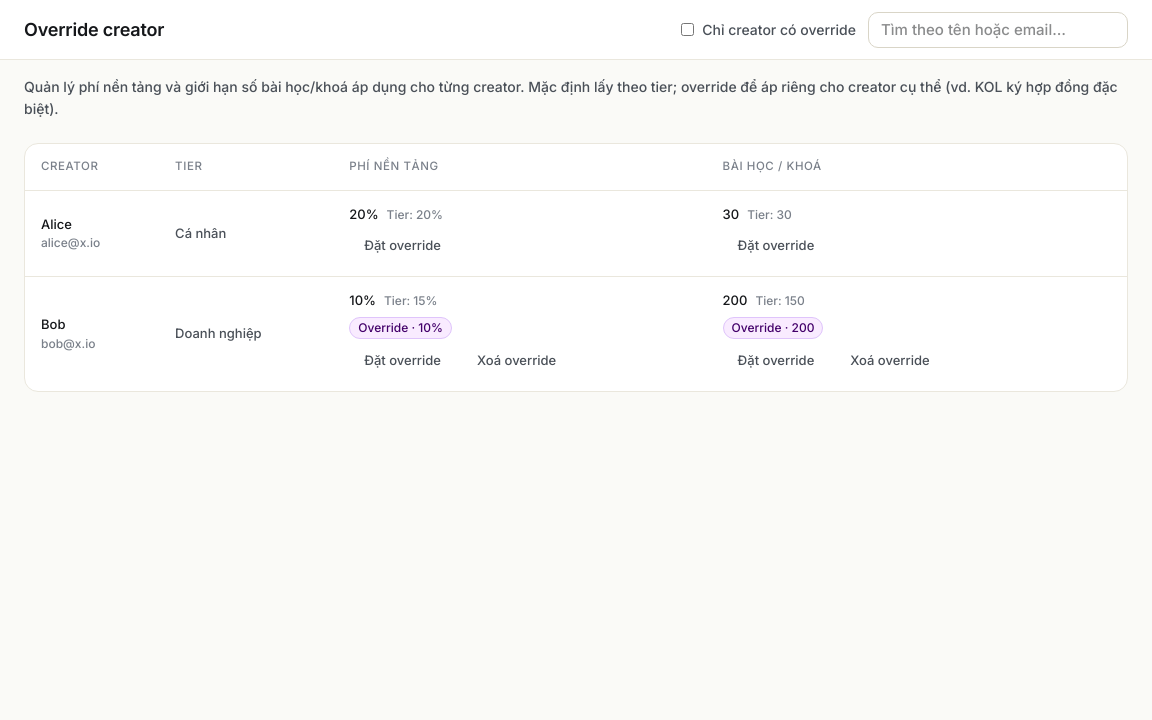
Scenario: AdminCreatorFeesPage › set override flow › rejects empty input
Expected: the row with test id "creator-fees-row-u-alice" is shown, [25,190,1127,277]
Click the button with test id "set-override-btn-u-alice": click(403, 246) [349,230,456,262]
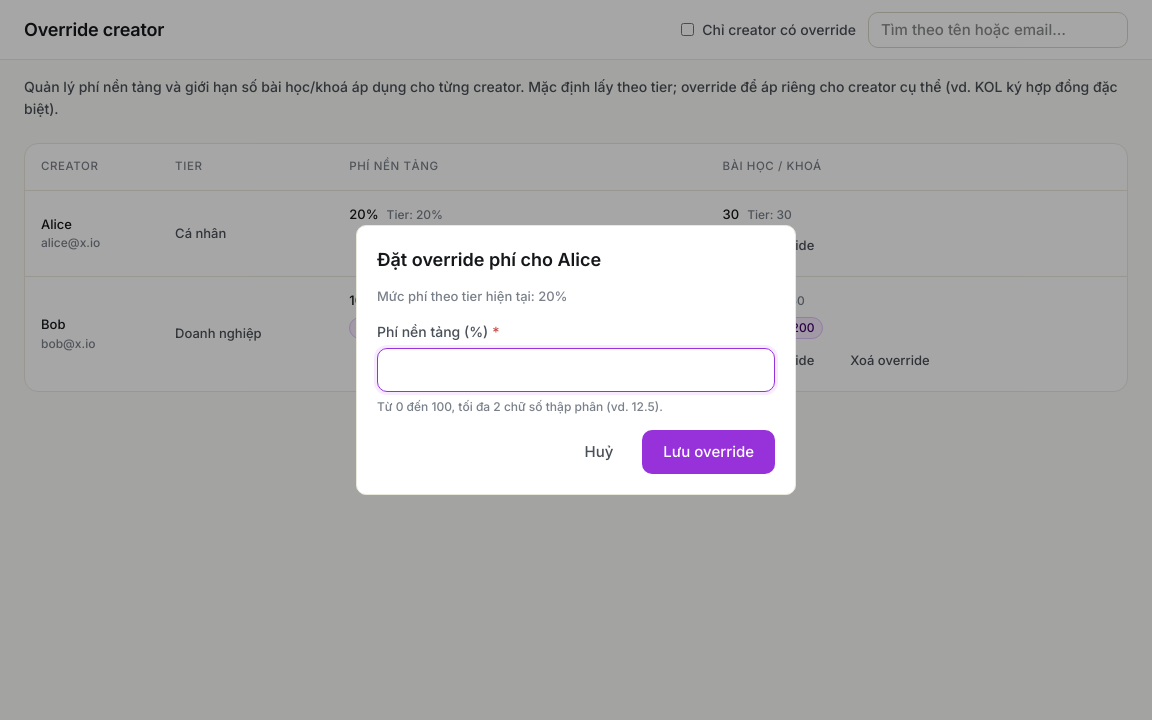
Click the button with test id "modal-confirm-save": click(709, 452) [642,430,775,474]
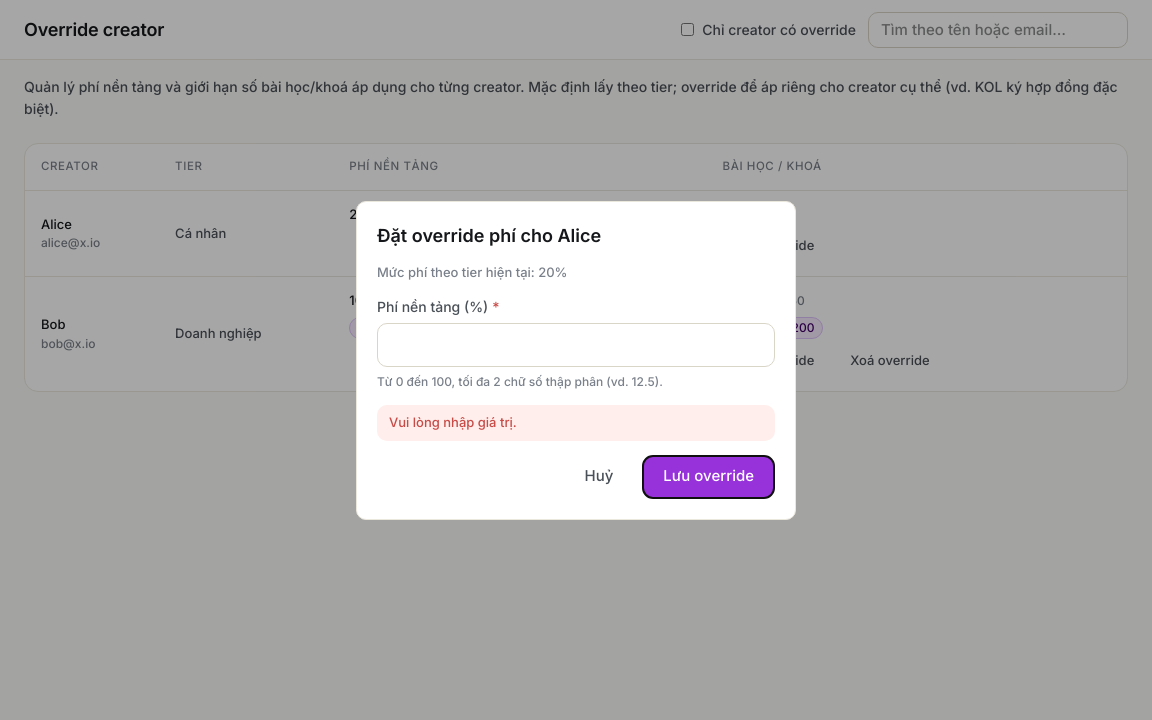
Result: the message "Vui lòng nhập giá trị." is shown at [377,405,775,440]
